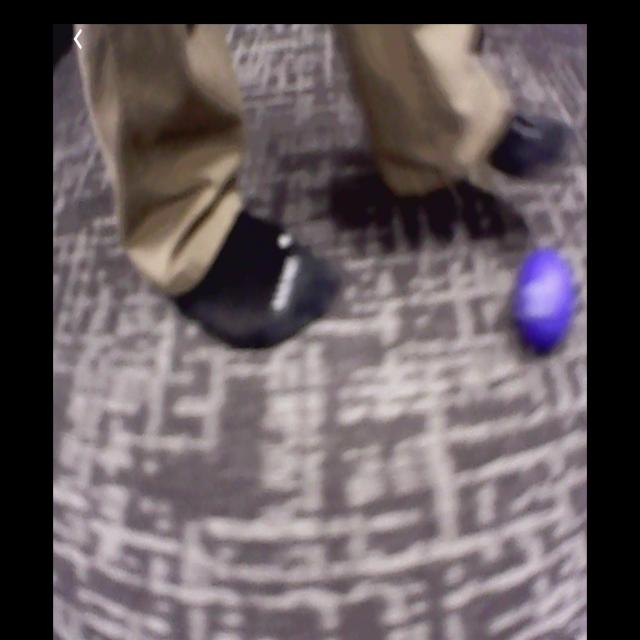ball: (513, 252, 572, 351)
